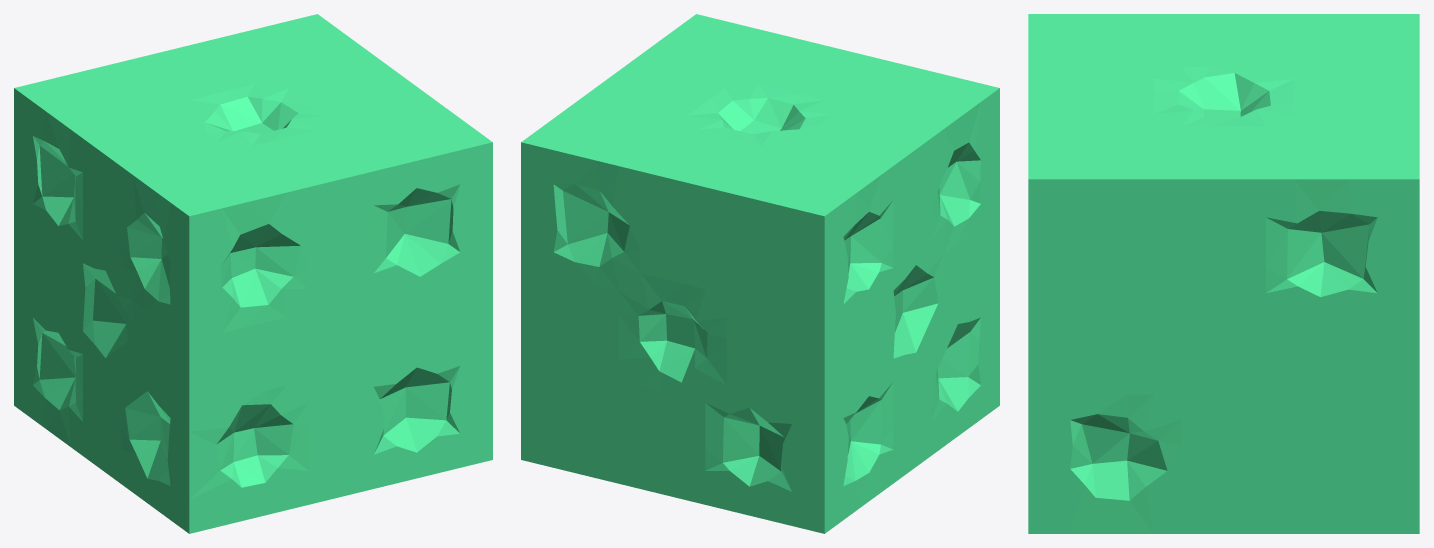
The model's file is dice.fbx.
3 views of the same model, side by side, from view 1: azimuth 30°, elevation 25°; view 2: azimuth 150°, elevation 25°; view 3: azimuth 270°, elevation 25° (orthographic). The views are drawn at different scales.
Parts seen in each view (by area): view 1: 0dice_改; view 2: 0dice_改; view 3: 0dice_改.
Boxes of the visible parts, x1,y1,x2,y2 form: 0dice_改: (14,14,492,533); 0dice_改: (521,14,999,533); 0dice_改: (1028,14,1419,533).
Size of the model in its own units: 94.09 by 94.09 by 94.09.
